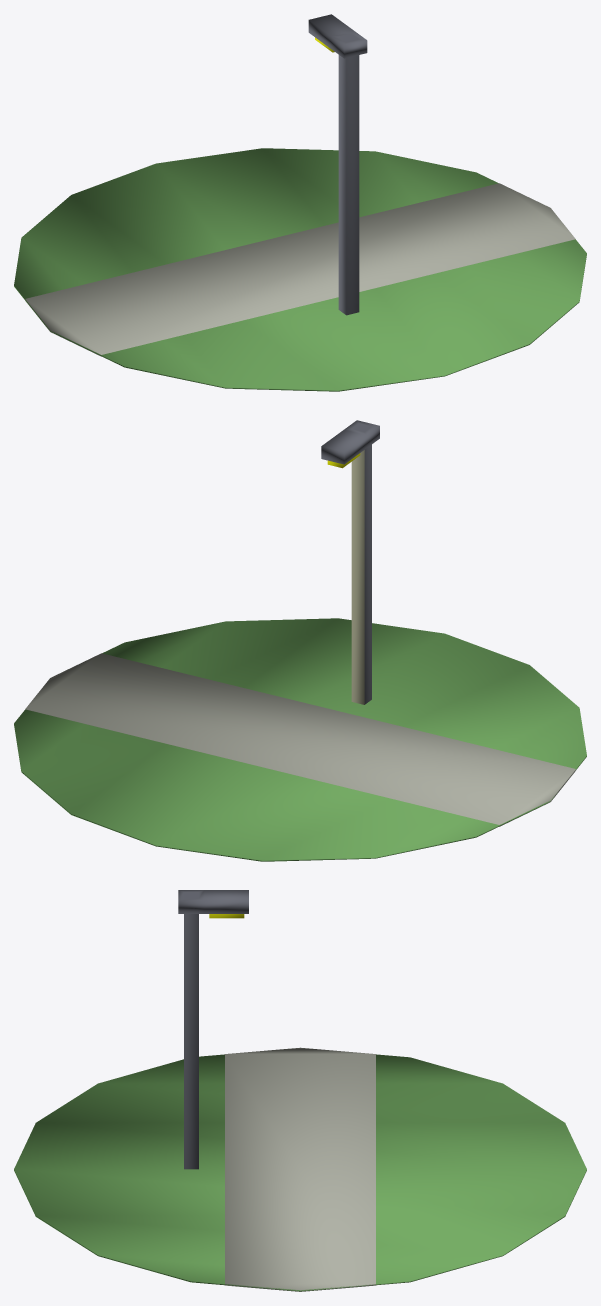
The model's file is pole.glb.
The picture shows the model from 3 angles, top to bottom: view 1: azimuth 30°, elevation 25°; view 2: azimuth 150°, elevation 25°; view 3: azimuth 270°, elevation 25°; orthographic projection.
Parts seen in each view (by area): view 1: Cylinder4_copy8, Cube7, Cube1; view 2: Cylinder4_copy8, Cube7, Cube1; view 3: Cylinder4_copy8, Cube7, Cube1.
Part boxes in pixels (x1,y1,x2,y2): Cylinder4_copy8: (14, 148, 586, 391); Cube7: (25, 183, 575, 356); Cube1: (308, 14, 367, 315); Cylinder4_copy8: (14, 618, 586, 861); Cube7: (25, 653, 575, 826); Cube1: (321, 420, 379, 704); Cylinder4_copy8: (14, 1054, 586, 1291); Cube7: (225, 1047, 375, 1291); Cube1: (178, 890, 248, 1169).
Size of the model in its own units: 7.58 by 3.98 by 7.58.
